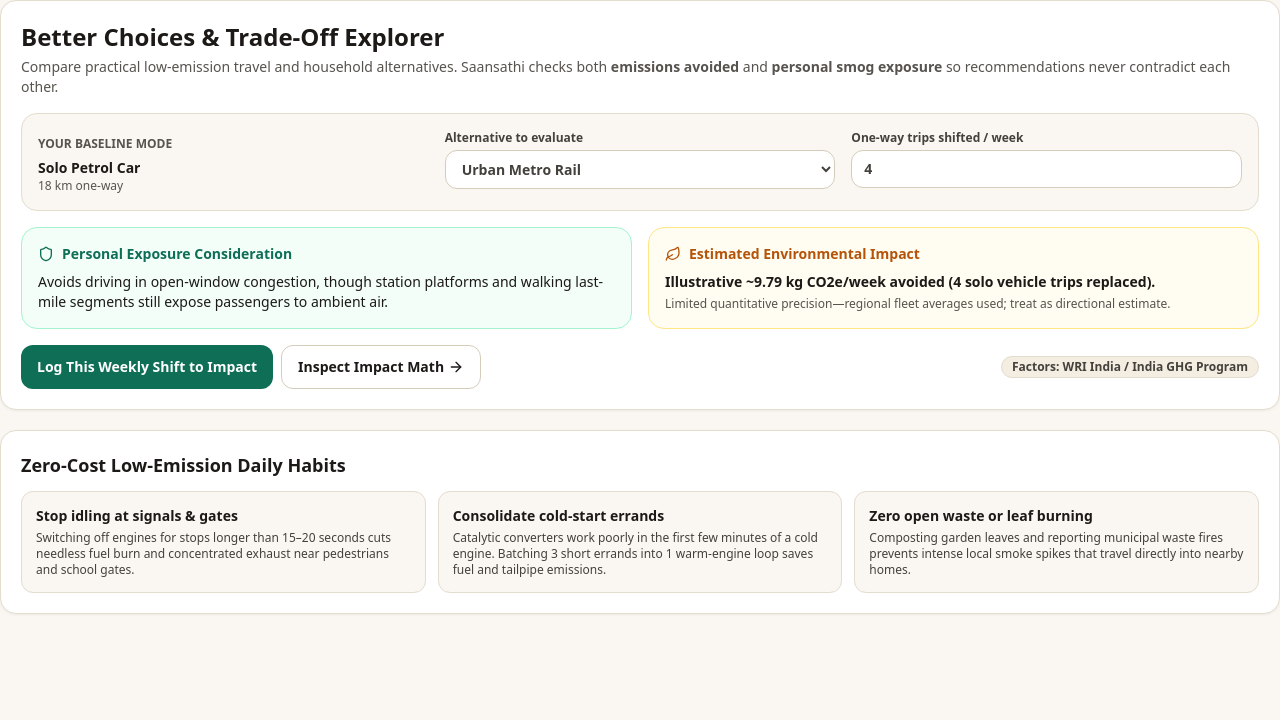
Test: UI Screens & Accessible Visualizations › shows active exposure conflict warning in ChoicesScreen when selecting cycling during high AQI
Select "Bicycle" in the dropdown labelled "Alternative to evaluate" at [640, 170], box [445,150,835,189]
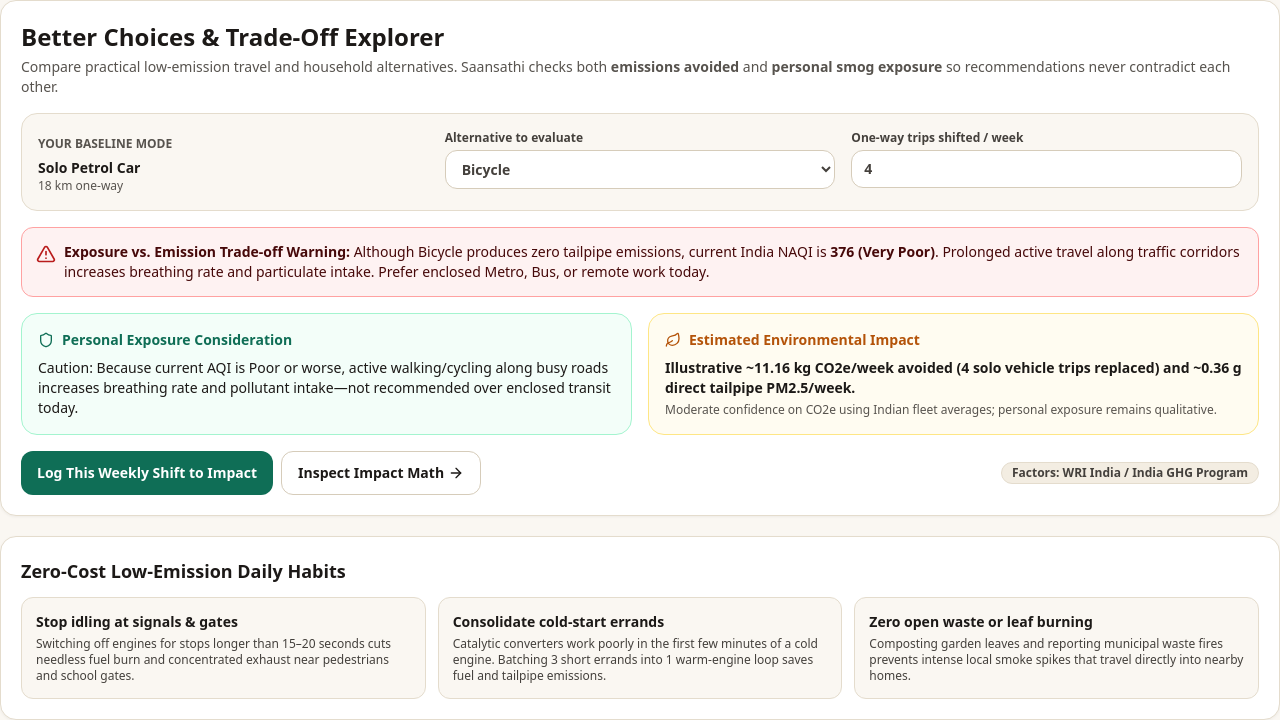
Expected: the message shows "Exposure vs. Emission Trade-off Warning", [64,242,350,261]
